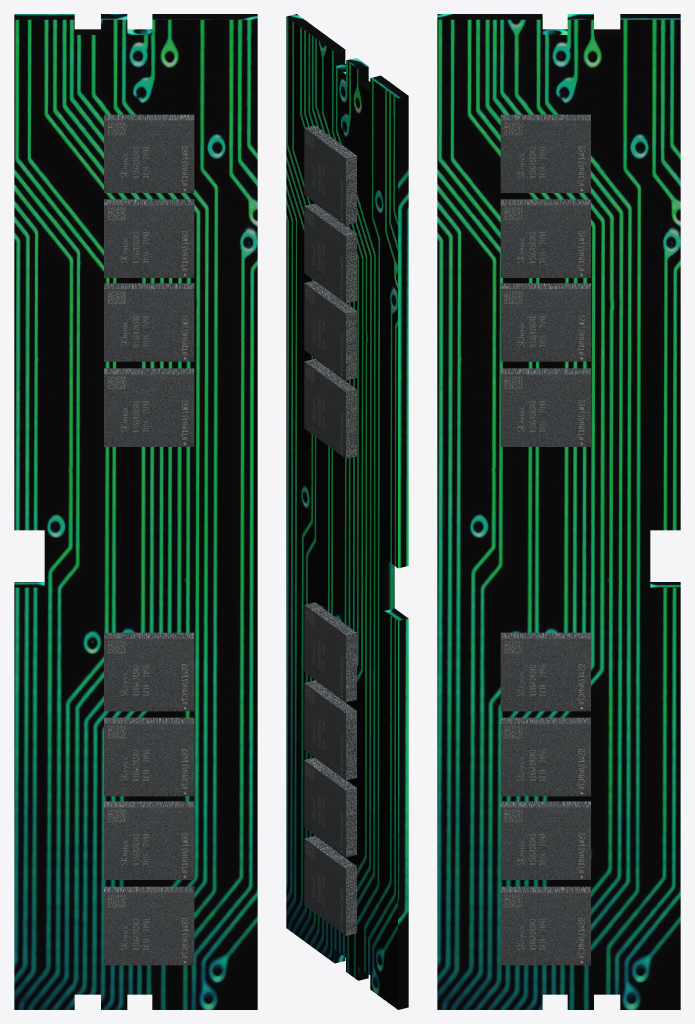
Rendered from Memory.fbx.
3 renders of one model, left to right at view 1: azimuth 90°, elevation 25°; view 2: azimuth 210°, elevation 25°; view 3: azimuth 270°, elevation 25°, orthographic. The views are drawn at different scales.
Visible parts, largest first — view 1: Memory; view 2: Memory; view 3: Memory.
Boxes of the visible parts, x1,y1,x2,y2 form: Memory: (14,14,257,1009); Memory: (286,14,408,1009); Memory: (437,14,680,1009).
Bounding box in the file's own units: 0.00583 × 0.1561 × 0.0347.
